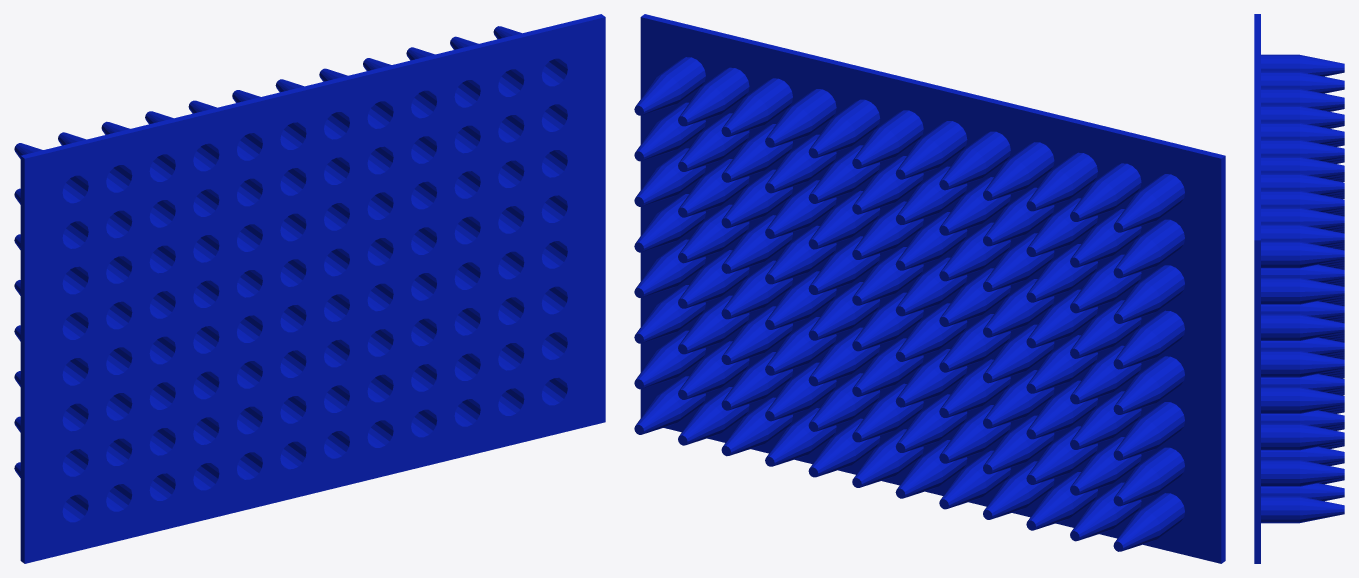
3 renders of one model, left to right at view 1: azimuth 30°, elevation 25°; view 2: azimuth 150°, elevation 25°; view 3: azimuth 270°, elevation 25°, orthographic. The views are drawn at different scales.
Parts seen in each view (by area): view 1: visual; view 2: visual; view 3: visual.
Part boxes in pixels (x1,y1,x2,y2): visual: [14, 14, 605, 563]; visual: [634, 14, 1225, 563]; visual: [1254, 14, 1344, 563].
Bounding box in the file's own units: 0.12 × 0.08 × 0.0202.
